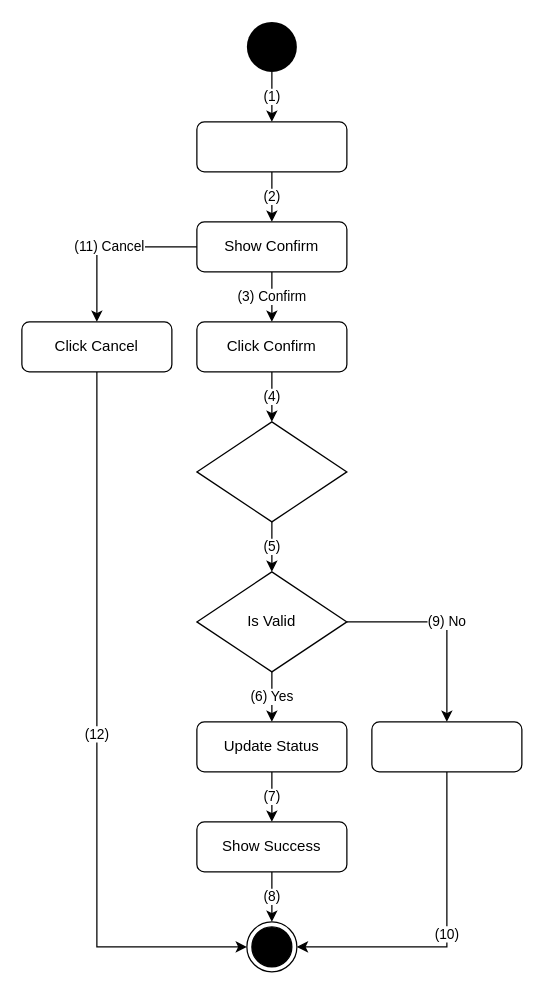
The diagram is 544 pixels wide and 994 high, and some of its shapes have lost their labels. The box of each missing label's shape, as (x1, y1, x2, y2) in pixels:
Click Withdraw: (196, 121, 347, 172)
Show Error: (371, 721, 522, 772)
Validate Status: (196, 421, 347, 522)
